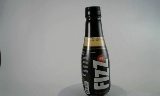appyfizz: (74, 6, 104, 94)
